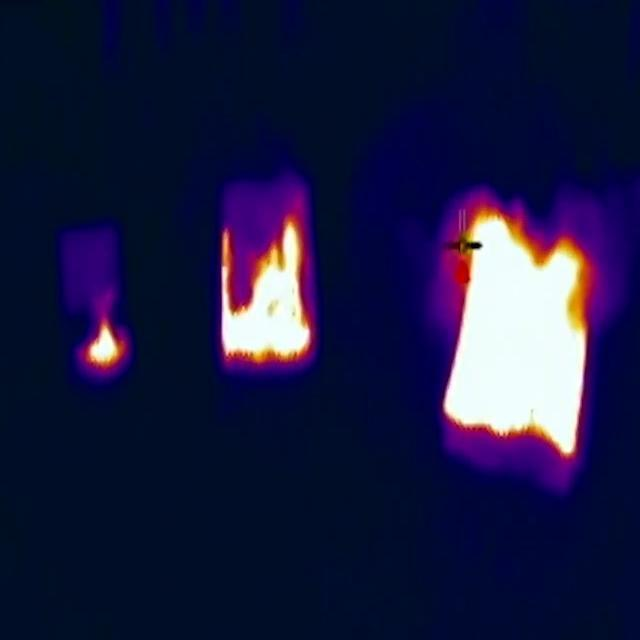fire: (446, 209, 593, 463), (220, 208, 316, 366), (81, 284, 130, 377)
